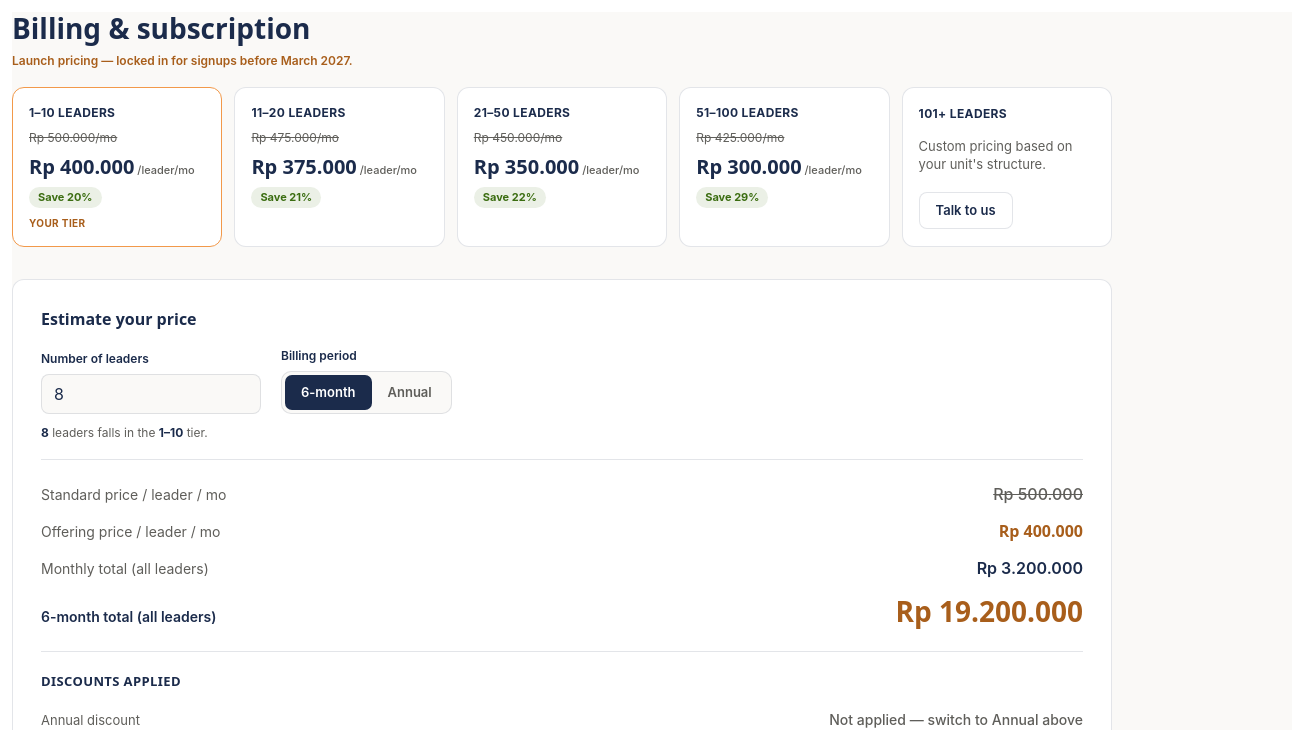
the quote tool (P13.2-T2) › AC-4: the screen, verbatim › keeps the six-month rate on the cards on Annual, and moves *Your tier* with the count
Expected: the heading "Estimate your price" is shown, [41,308,197,330]
Click the button "Annual" at (410, 392), box [372,375,448,410]
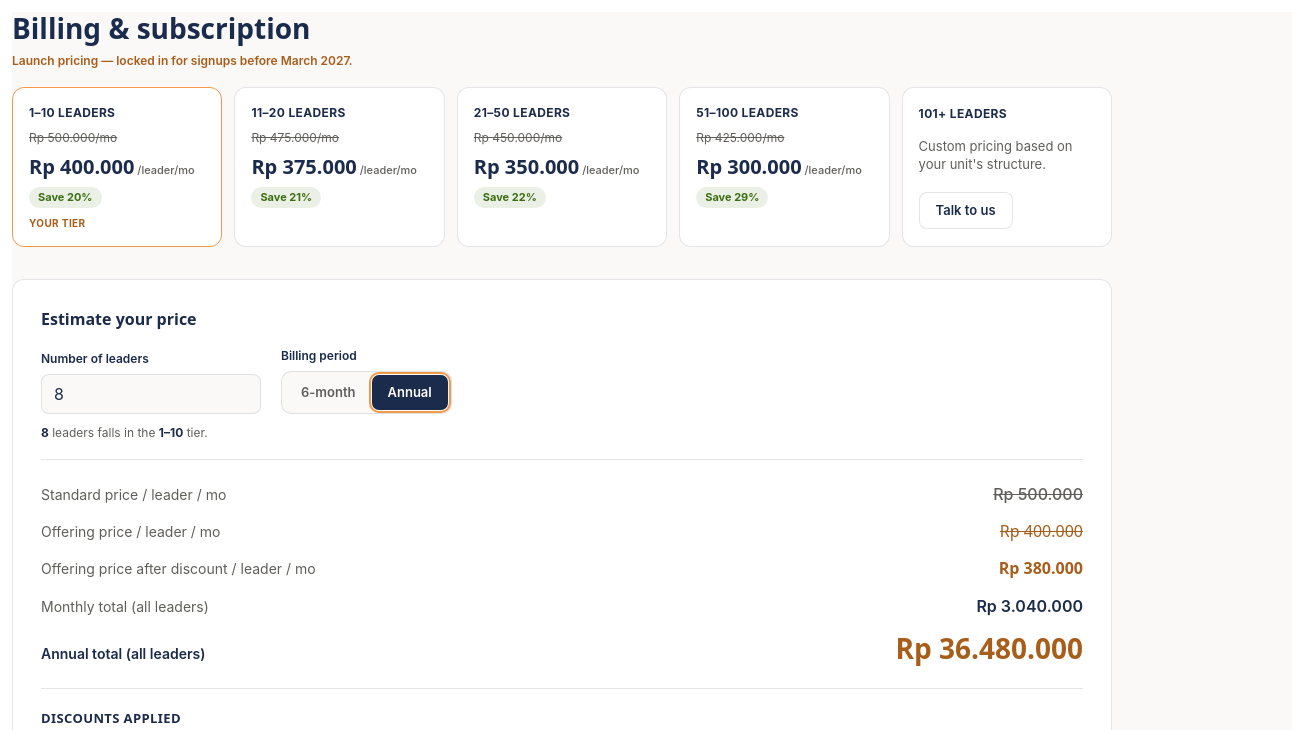
Expected: the 1st list item shows "Rp 400.000 /leader/mo", [12,87,222,247]
Replace the text in the number field labelled "Number of leaders" with "21" at (151, 394), box [41,374,261,414]
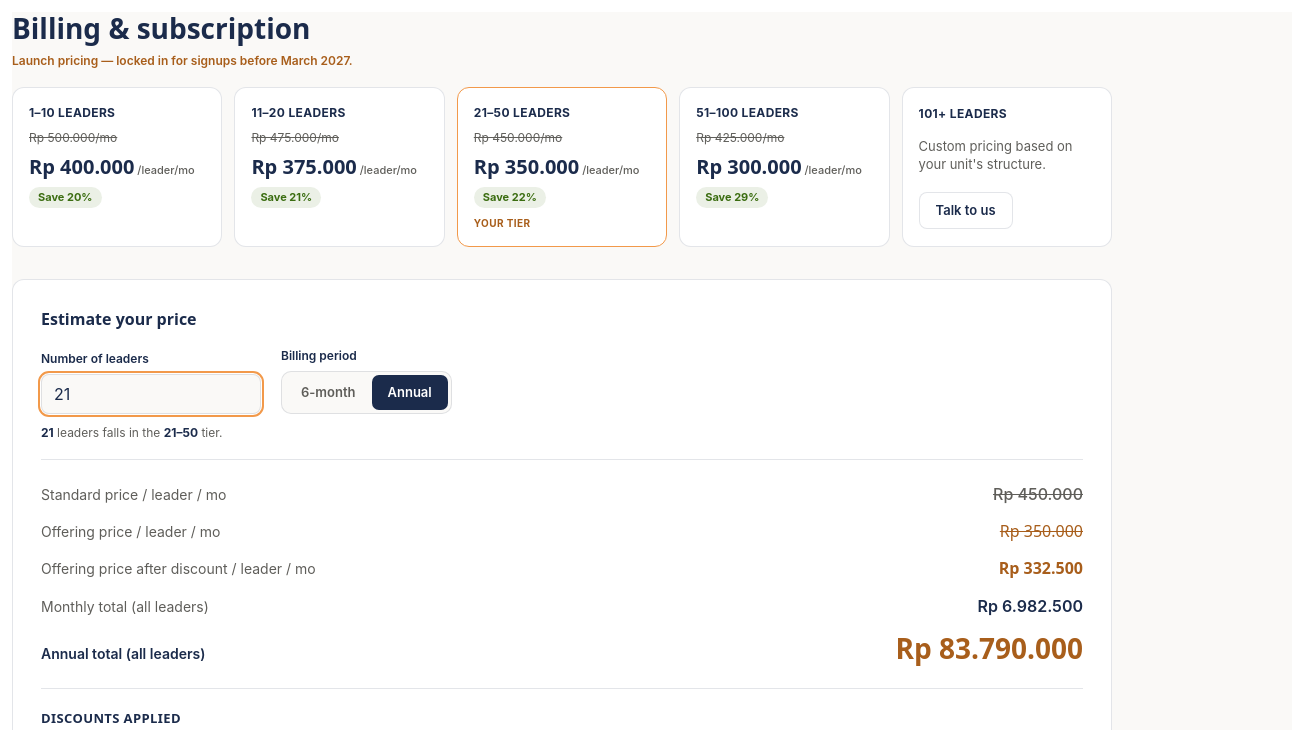
Expected: the list item "1–10 leaders Rp 500.000/mo Rp 400.000 /leader/mo Save 20%" does not show "Your tier", [12,87,222,247]
Expected: the 3rd list item shows "Your tier", [474,217,530,229]
Replace the text in the number field labelled "Number of leaders" with "101" at (151, 394), box [41,374,261,414]
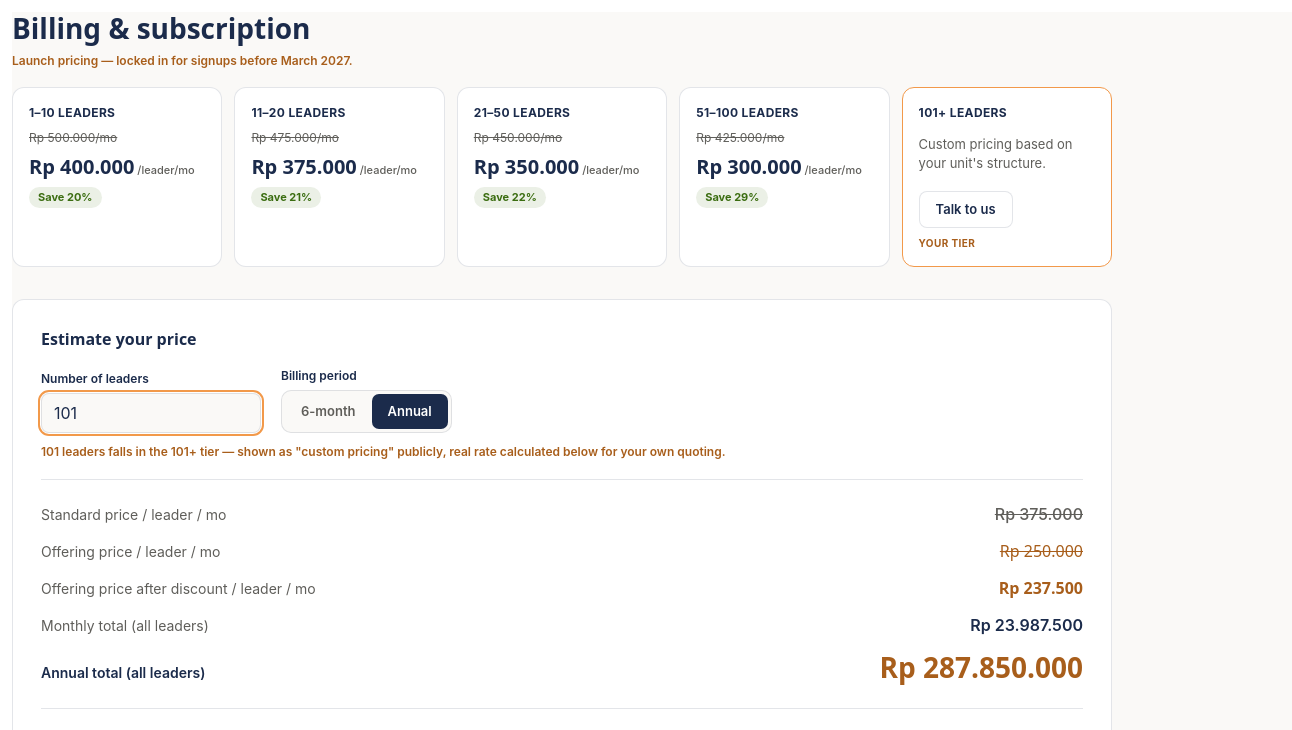
Expected: the 5th list item shows "Your tier", [919,237,975,249]
